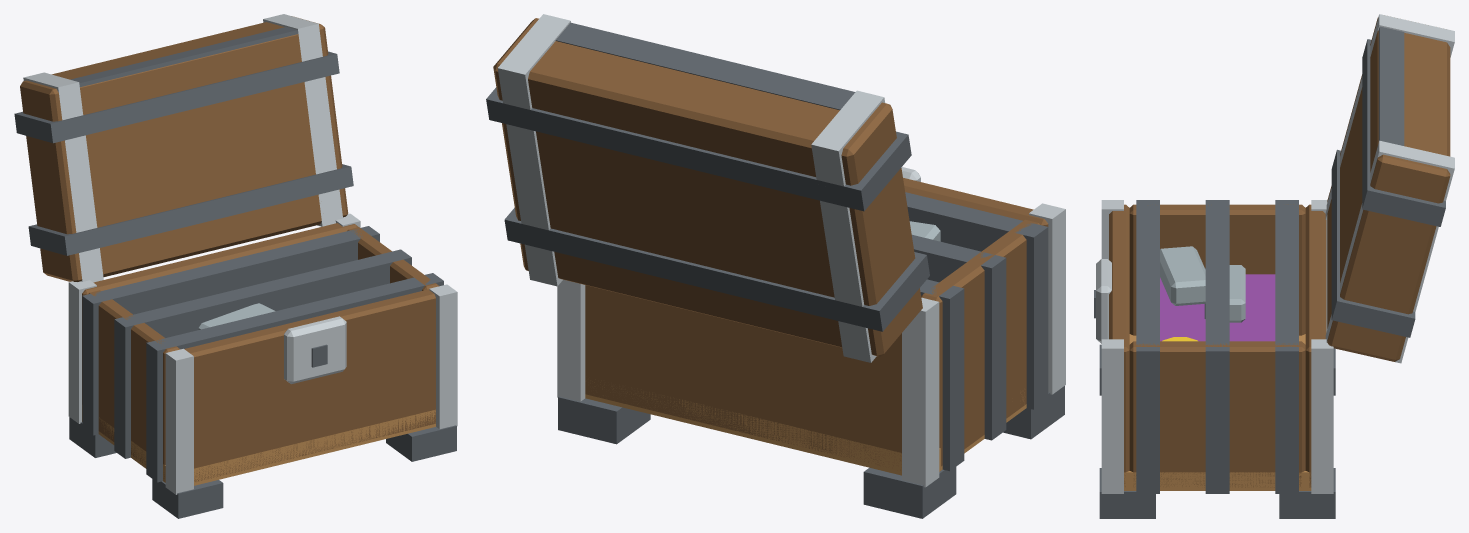
Rendered from loot_chest_reinforced_open.glb.
3 views of the same model, side by side, from view 1: azimuth 30°, elevation 25°; view 2: azimuth 150°, elevation 25°; view 3: azimuth 270°, elevation 25° (orthographic). The views are drawn at different scales.
Visible parts, largest first — view 1: Rein_Lid.001, Rein_Body_Front.001, Rein_Band_3.001, Rein_Band_2.001, Rein_Lid_Band_1.001, Rein_Lid_Band_2.001, Rein_Band_1.001, Rein_Body_Left.001, Rein_Body_Floor.001, Rein_Corner_1.001, Rein_Lid_Corner_2.001, Rein_Lid_Corner_1.001 (+10 smaller); view 2: Rein_Lid.001, Rein_Body_Back.001, Rein_Lid_Band_1.001, Rein_Lid_Band_2.001, Rein_Body_Left.001, Rein_Band_1.001, Rein_Lid_Corner_1.001, Rein_Lid_Corner_2.001, Rein_Corner_3.001, Rein_Lid_Lip.001, Rein_Band_2.001, Rein_Body_Floor.001 (+7 smaller); view 3: Rein_Lid.001, Rein_Body_Right.001, Rein_Band_2.001, Rein_Body_Left.001, Rein_Band_1.001, Rein_Band_3.001, Rein_Cloth, Rein_Body_Back.001, Rein_Corner_2.001, Rein_Corner_4.001, Rein_Body_Front.001, Rein_Lid_Band_2.001 (+11 smaller).
Boxes of the visible parts, x1,y1,x2,y2 form: Rein_Lid.001: (20,16,348,281); Rein_Body_Front.001: (184,289,435,481); Rein_Band_3.001: (82,226,379,435); Rein_Band_2.001: (114,249,411,458); Rein_Lid_Band_1.001: (14,51,339,143); Rein_Lid_Band_2.001: (28,164,353,255); Rein_Band_1.001: (146,273,443,482); Rein_Body_Left.001: (88,290,180,478); Rein_Body_Floor.001: (82,405,435,485); Rein_Corner_1.001: (165,348,193,494); Rein_Lid_Corner_2.001: (263,14,342,226); Rein_Lid_Corner_1.001: (23,72,103,282); Rein_Lid.001: (493,18,922,356); Rein_Body_Back.001: (585,285,901,470); Rein_Lid_Band_1.001: (486,87,911,211); Rein_Lid_Band_2.001: (504,208,929,331); Rein_Body_Left.001: (921,219,1040,466); Rein_Band_1.001: (905,192,1048,409); Rein_Lid_Corner_1.001: (811,90,885,362); Rein_Lid_Corner_2.001: (497,14,570,286); Rein_Corner_3.001: (902,297,939,487); Rein_Lid_Lip.001: (555,22,855,110); Rein_Band_2.001: (912,234,1006,440); Rein_Body_Floor.001: (585,379,1026,475); Rein_Lid.001: (1327,18,1450,361); Rein_Body_Right.001: (1129,341,1305,487); Rein_Band_2.001: (1205,200,1229,493); Rein_Body_Left.001: (1129,204,1305,335); Rein_Band_1.001: (1136,200,1159,493); Rein_Band_3.001: (1275,200,1298,493); Rein_Cloth: (1160,274,1275,341); Rein_Body_Back.001: (1305,204,1326,487); Rein_Corner_2.001: (1101,339,1123,493); Rein_Corner_4.001: (1311,339,1333,493); Rein_Body_Front.001: (1109,204,1129,486); Rein_Lid_Band_2.001: (1331,149,1415,337).
Size of the model in its own units: 0.9568 by 1.07 by 0.9635.
